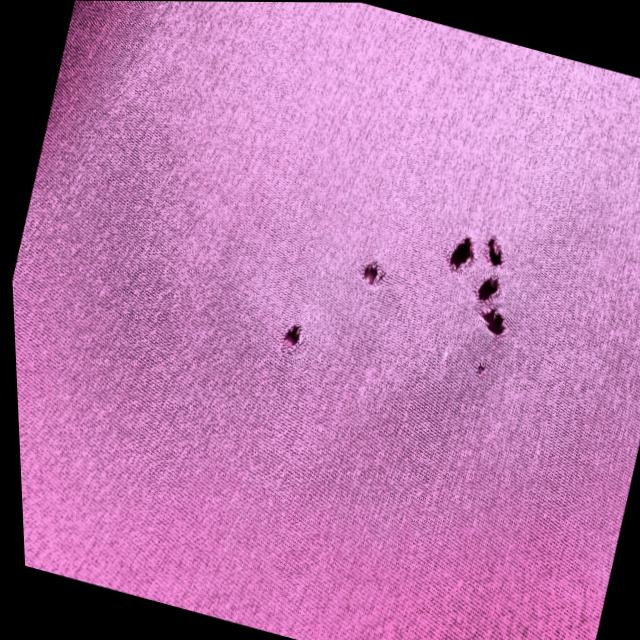Hole: (430, 219, 486, 288), (264, 313, 312, 366), (347, 248, 393, 296), (475, 225, 516, 275), (468, 305, 513, 347), (468, 268, 504, 310), (466, 353, 488, 386)
